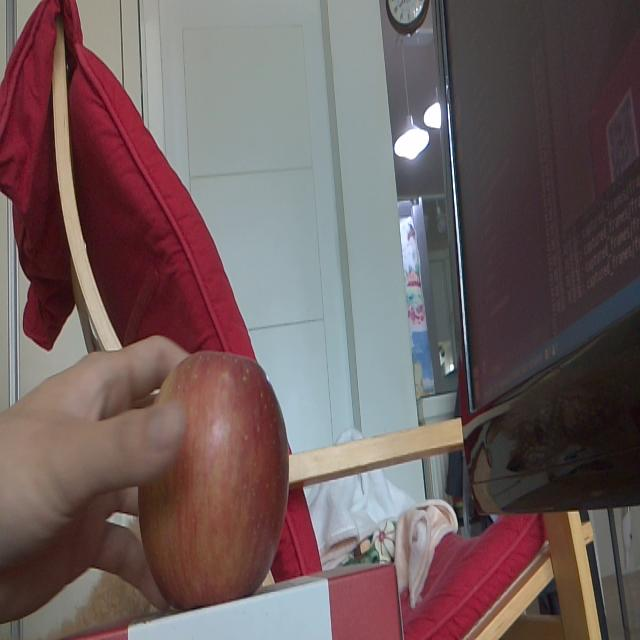apple: (134, 354, 288, 607)
